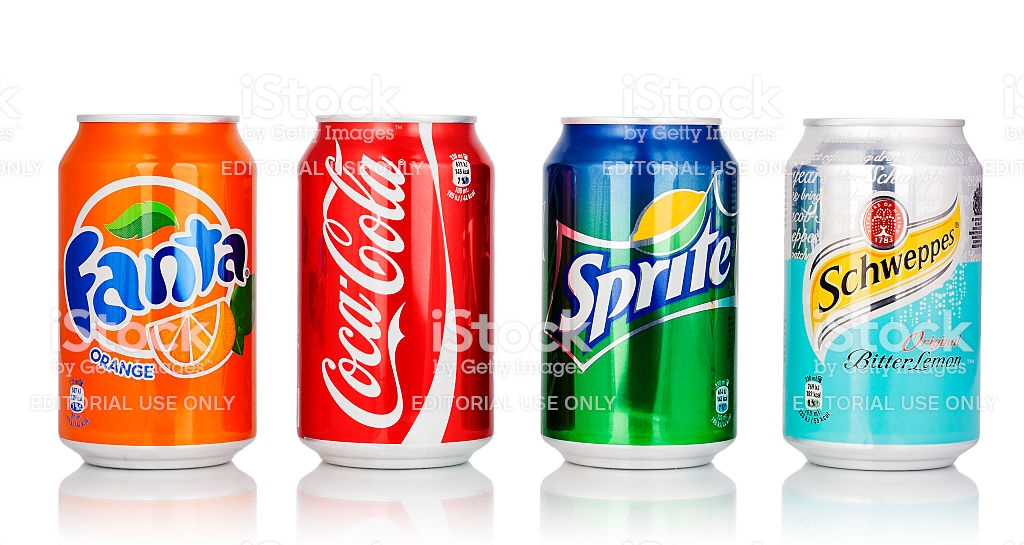Coca-Cola: (284, 107, 520, 468)
Fanta: (42, 99, 274, 477)
Sprite: (523, 108, 762, 481)
